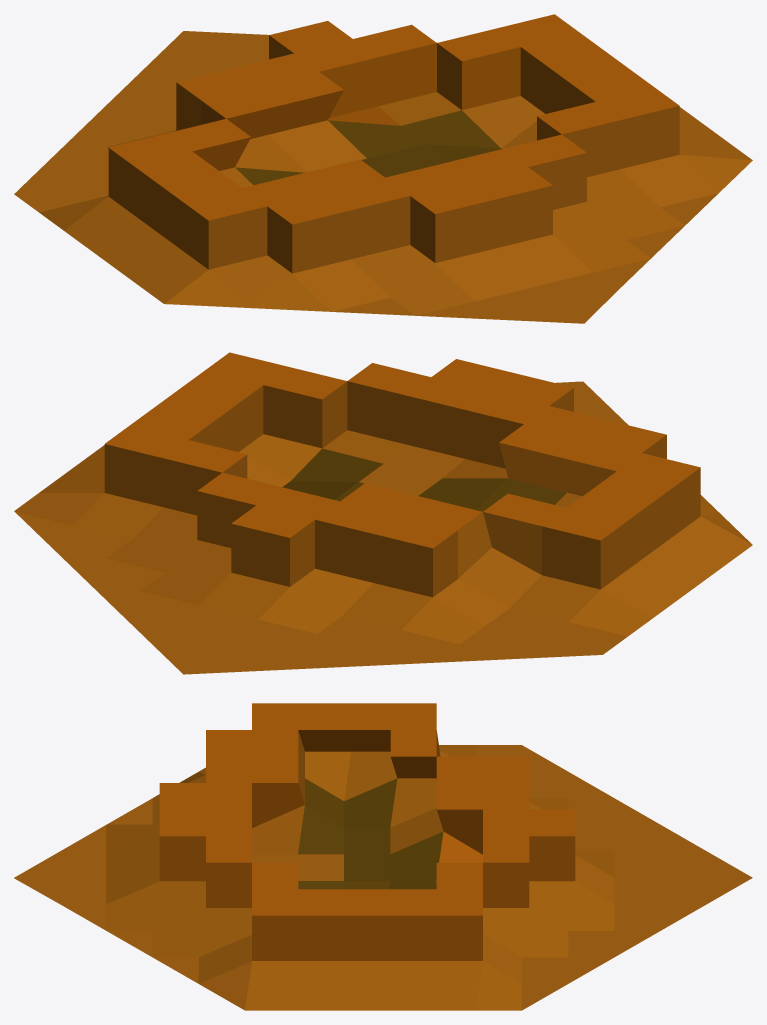
File: claymine.fbx
3 views of the same model, one above another, from view 1: azimuth 30°, elevation 25°; view 2: azimuth 150°, elevation 25°; view 3: azimuth 270°, elevation 25° (orthographic). The views are drawn at different scales.
Visible parts, largest first — view 1: Plane; view 2: Plane; view 3: Plane.
Boxes of the visible parts, <box> form: Plane: <box>14,14,752,323</box>; Plane: <box>14,352,752,674</box>; Plane: <box>14,703,752,1010</box>.
Size of the model in its own units: 1.7 by 0.1895 by 2.
